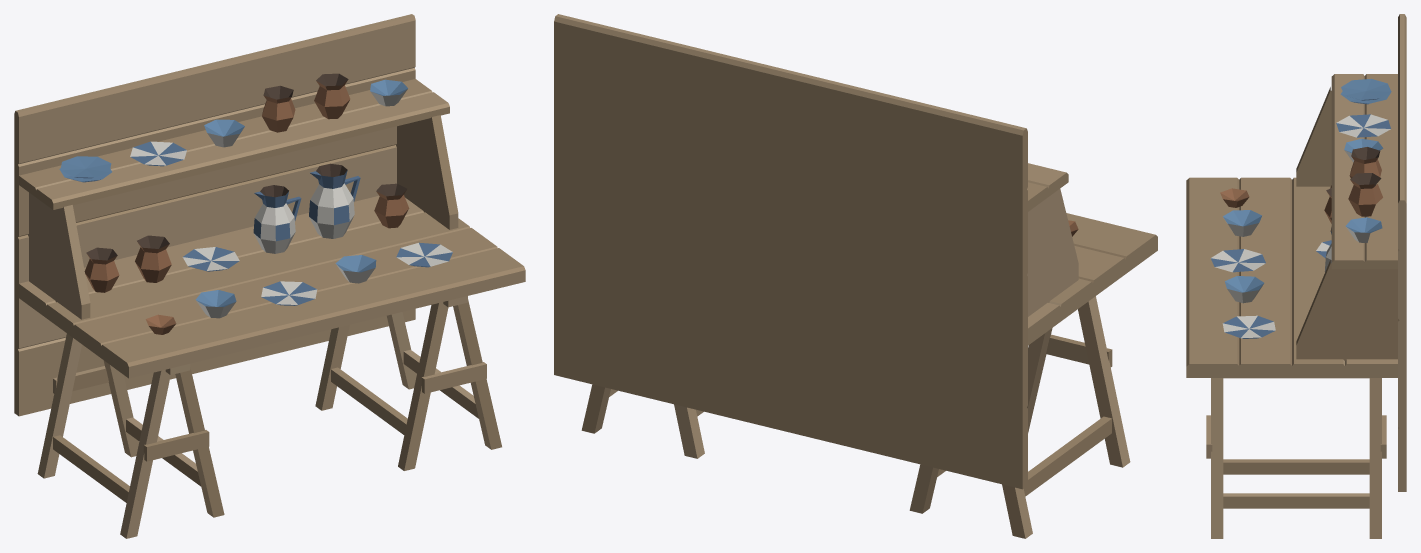
The model's file is ceramic-pot-stall-7e9181.glb.
3 views of the same model, side by side, from view 1: azimuth 30°, elevation 25°; view 2: azimuth 150°, elevation 25°; view 3: azimuth 270°, elevation 25° (orthographic). The views are drawn at different scales.
Visible parts, largest first — view 1: stall, wares-mesh; view 2: stall; view 3: stall, wares-mesh.
Part boxes in pixels (x1,y1,x2,y2): stall: (14, 14, 525, 538); wares-mesh: (59, 73, 452, 334); stall: (554, 14, 1157, 538); stall: (1186, 14, 1406, 538); wares-mesh: (1210, 78, 1391, 338).
Size of the model in its own units: 2 by 1.72 by 1.
